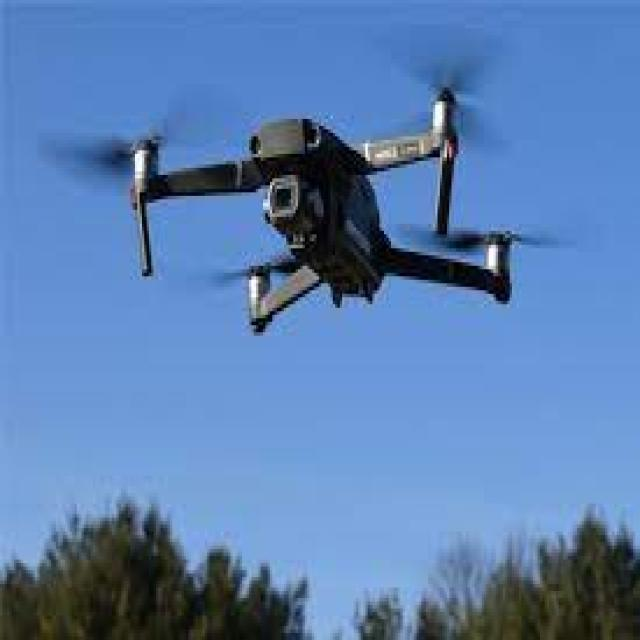drone: (116, 72, 526, 349)
